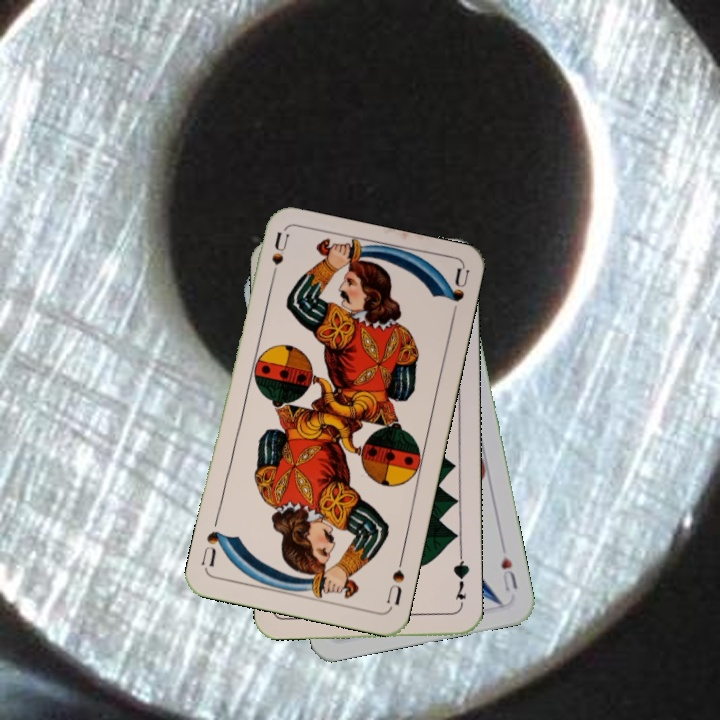G7: (449, 552, 472, 611)
HU: (496, 552, 521, 594)
SU: (265, 229, 292, 288), (382, 552, 407, 611)
